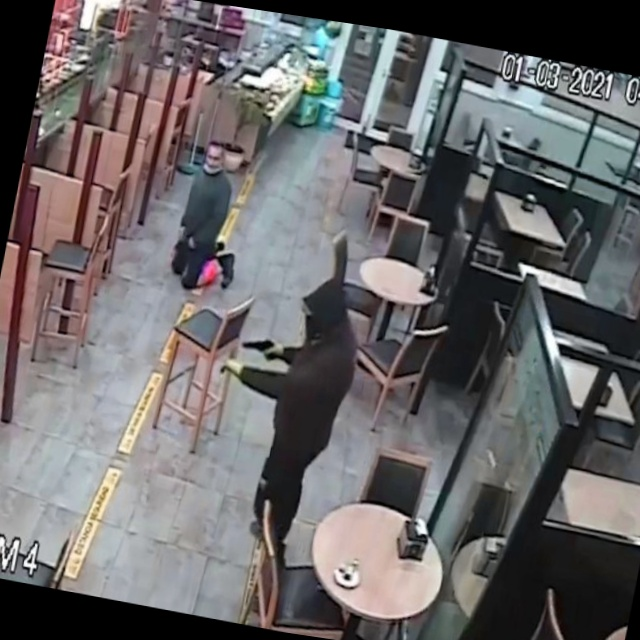gun: (229, 318, 293, 376)
